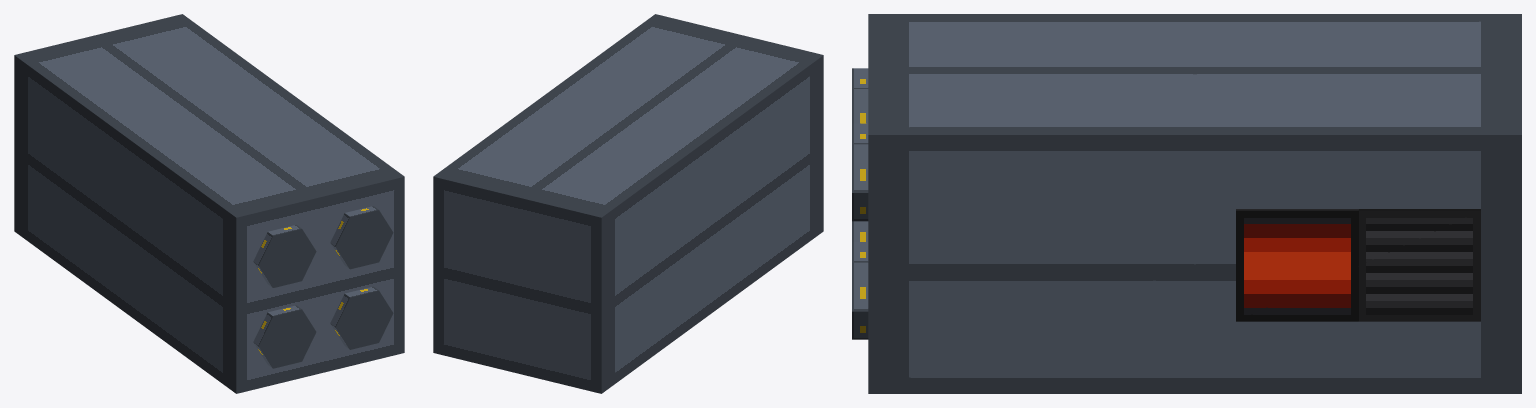
The model's file is weapon_rocket_launcher.obj.
3 views of the same model, side by side, from view 1: azimuth 30°, elevation 25°; view 2: azimuth 150°, elevation 25°; view 3: azimuth 270°, elevation 25° (orthographic). The views are drawn at different scales.
Parts seen in each view (by area): view 1: launcher_body, launcher_t3, launcher_t2, launcher_t1, launcher_t4; view 2: launcher_body; view 3: launcher_body, launcher_bracket, launcher_t2, launcher_t4, launcher_t1.
Boxes of the visible parts, box(x1,y1,x2,y2) form: launcher_body: box(14, 14, 404, 393); launcher_t3: box(253, 305, 316, 368); launcher_t2: box(330, 206, 393, 269); launcher_t1: box(253, 225, 316, 287); launcher_t4: box(330, 286, 393, 349); launcher_body: box(433, 14, 823, 393); launcher_body: box(868, 14, 1521, 393); launcher_bracket: box(1236, 209, 1480, 321); launcher_t2: box(852, 123, 868, 221); launcher_t4: box(852, 242, 868, 339); launcher_t1: box(852, 68, 868, 123).
Bounding box in the file's own units: 0.355 × 0.35 × 0.82.
Materials: 6 (6 with a texture image).
